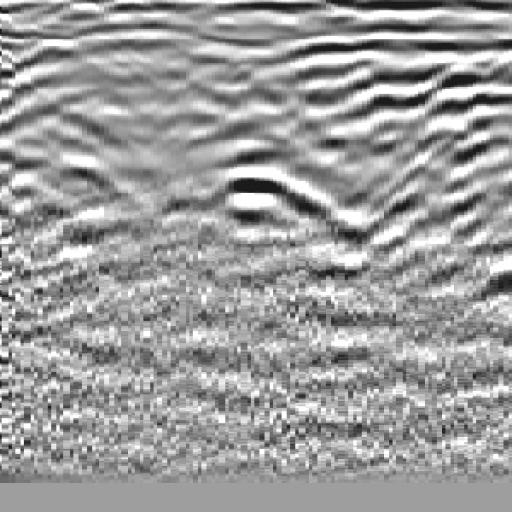metalic: (183, 38, 349, 288)
nonmetalic: (397, 39, 512, 283)
